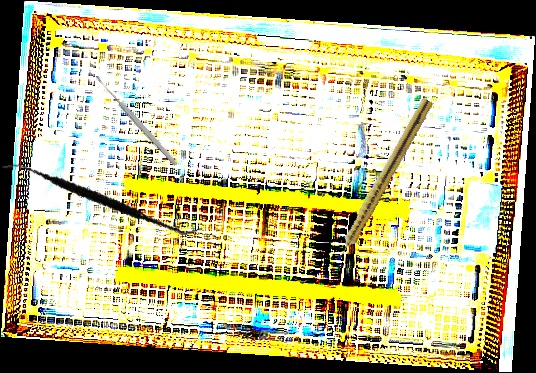Handpiece: (330, 95, 434, 265)
Spatula Surgical: (1, 129, 204, 267)
Surgical Spoon: (94, 73, 179, 168)
